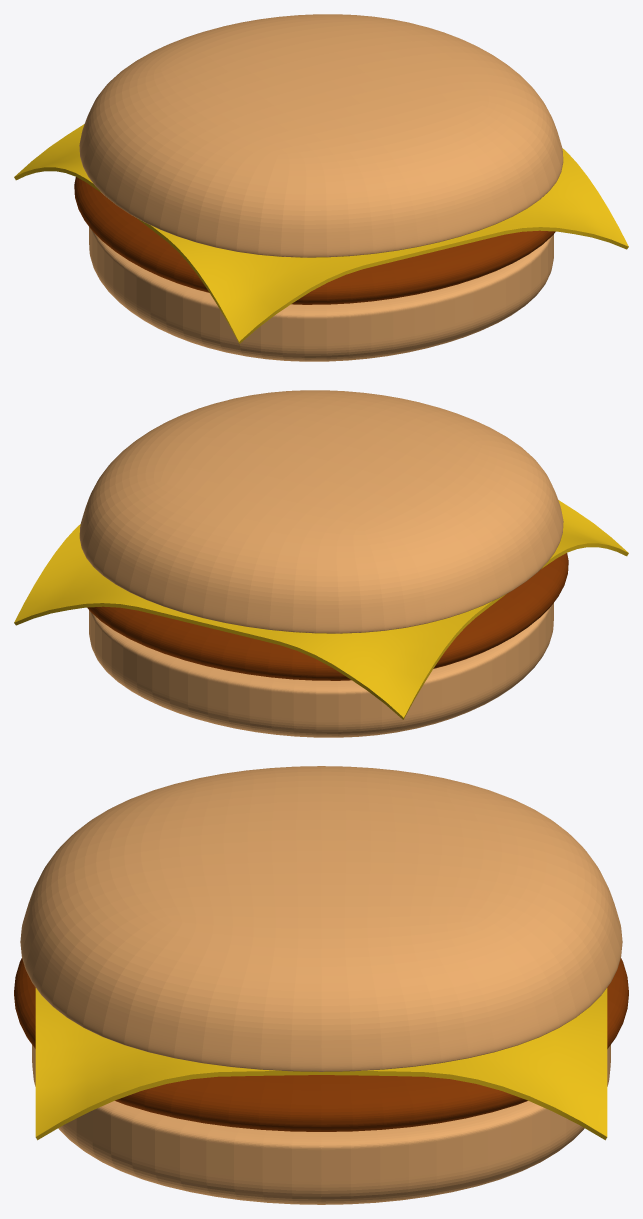
File: hamburger.glb
The picture shows the model from 3 angles, top to bottom: view 1: azimuth 30°, elevation 25°; view 2: azimuth 150°, elevation 25°; view 3: azimuth 270°, elevation 25°; orthographic projection. The views are drawn at different scales.
Parts seen in each view (by area): view 1: Cube.003, Cube.001, Plane, Cube.002; view 2: Cube.003, Cube.001, Plane, Cube.002; view 3: Cube.003, Cube.001, Plane, Cube.002.
Boxes of the visible parts, box(x1,y1,x2,y2) form: Cube.003: box(79, 14, 563, 257); Cube.001: box(89, 227, 553, 361); Plane: box(14, 124, 628, 343); Cube.002: box(74, 177, 555, 304); Cube.003: box(79, 390, 563, 633); Cube.001: box(89, 603, 553, 737); Plane: box(14, 500, 628, 719); Cube.002: box(87, 553, 568, 680); Cube.003: box(20, 766, 622, 1071); Cube.001: box(32, 1045, 610, 1204); Plane: box(35, 988, 607, 1140); Cube.002: box(14, 958, 628, 1131).
Size of the model in its own units: 9.64 by 4.78 by 9.64.
